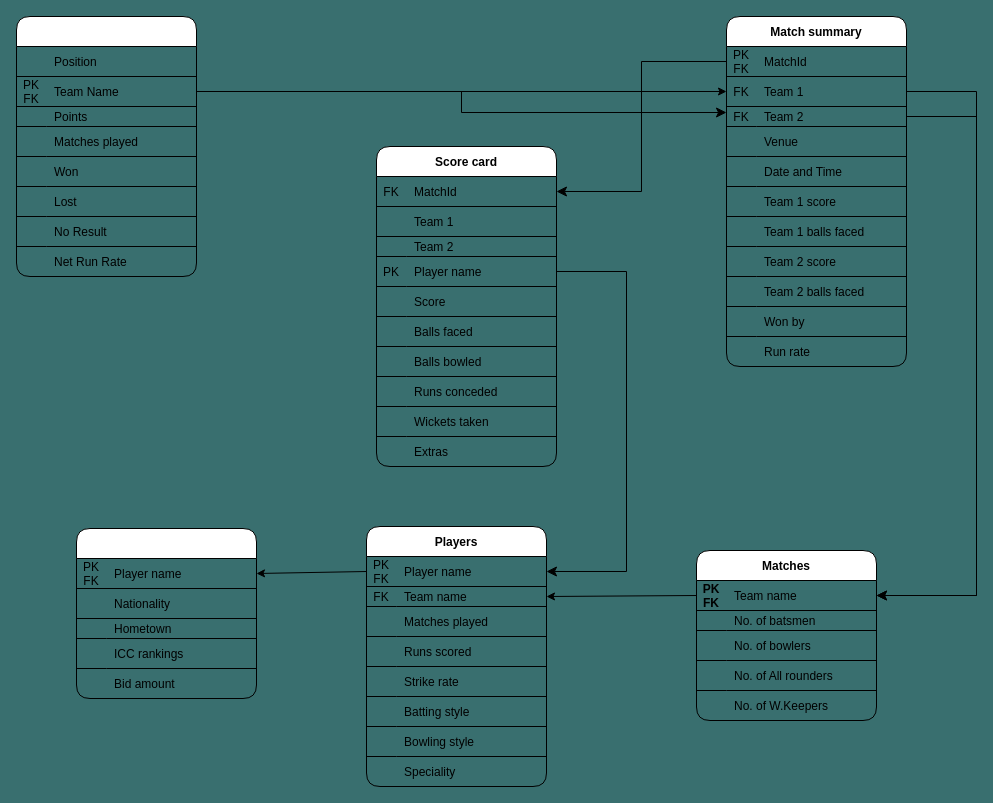
Image size: 993x803. Some labels were removed from this diagram. Each missing label, with the box of its shape:
Player detail: (76, 528, 256, 698)
Points Table: (16, 16, 196, 276)
